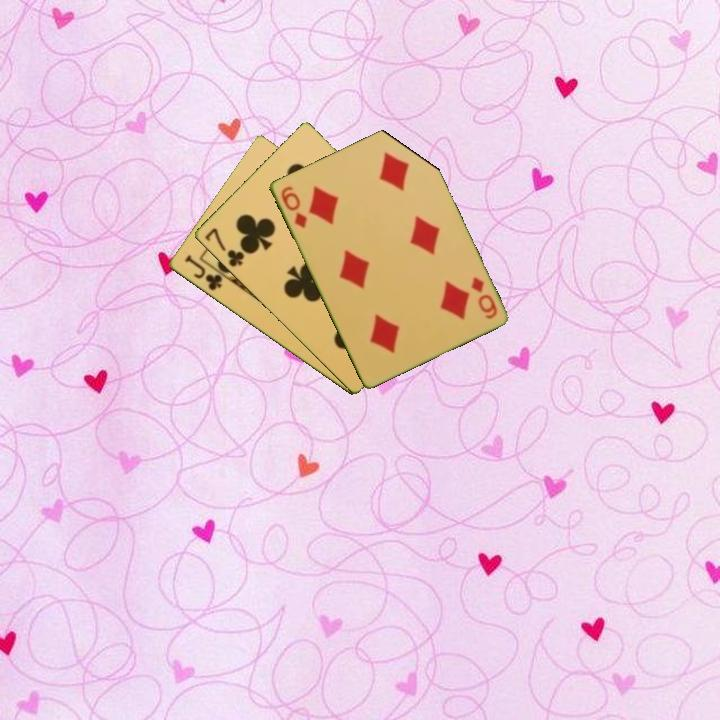6d: (467, 273, 500, 322), (277, 183, 310, 231)
7c: (201, 224, 247, 270)
Jc: (181, 251, 225, 294)
